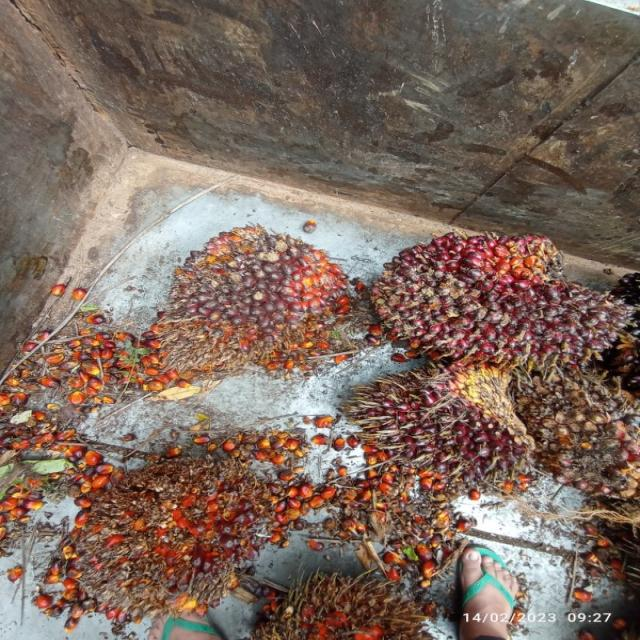fraksi 1: (349, 357, 535, 489)
fraksi 3: (368, 228, 630, 368), (168, 226, 357, 356)
fraksi 4: (61, 448, 276, 614)
